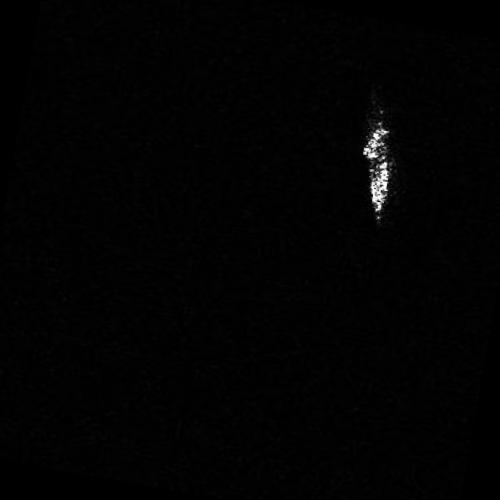ship: (360, 122, 392, 220)
